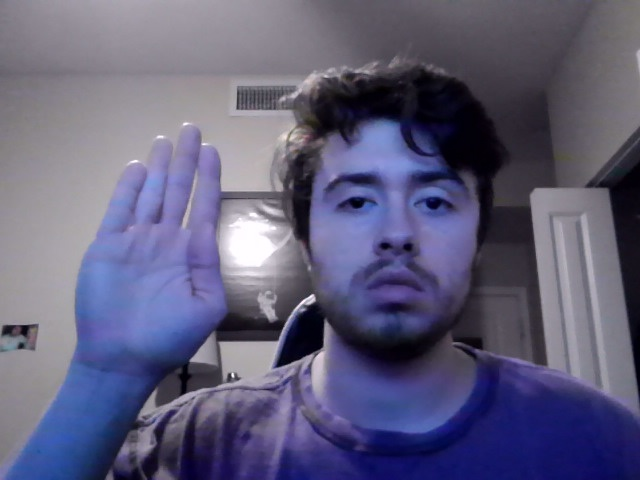b: (73, 121, 230, 382)
